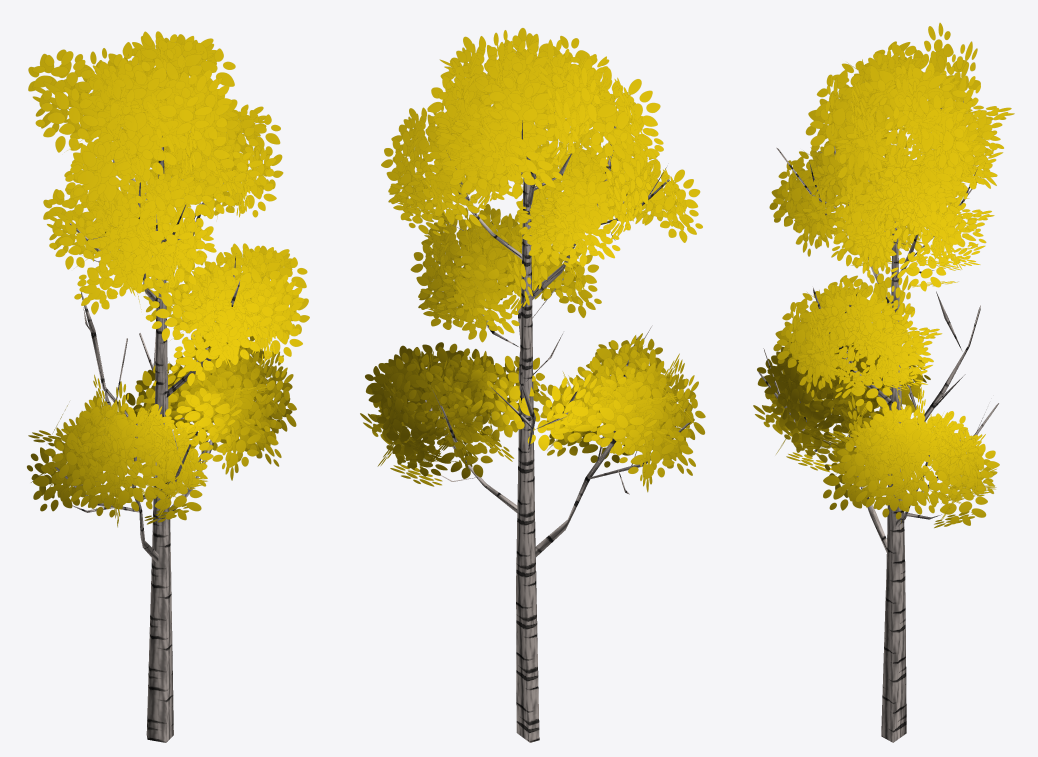
Rendered from BirchTree_2_LOD.glb.
3 views of the same model, side by side, from view 1: azimuth 30°, elevation 25°; view 2: azimuth 150°, elevation 25°; view 3: azimuth 270°, elevation 25° (orthographic). The views are drawn at different scales.
Parts seen in each view (by area): view 1: BirchTree_2; view 2: BirchTree_2; view 3: BirchTree_2.
Part boxes in pixels (x1,y1,x2,y2): BirchTree_2: (27,31,309,742); BirchTree_2: (360,28,705,742); BirchTree_2: (753,22,1014,742).
Size of the model in its own units: 3.34 by 7.57 by 2.79.
Materials: 2 (2 with a texture image).
